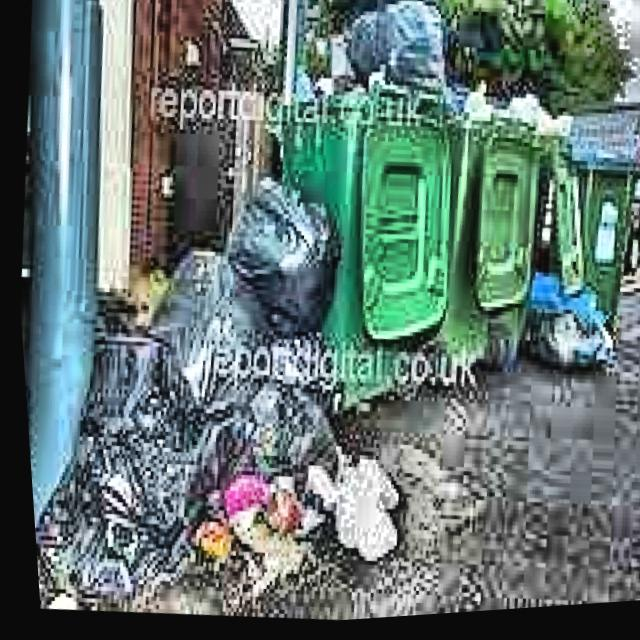Plastic: (24, 410, 200, 623), (145, 221, 279, 432), (330, 0, 477, 134), (284, 438, 411, 581), (492, 270, 623, 398)
